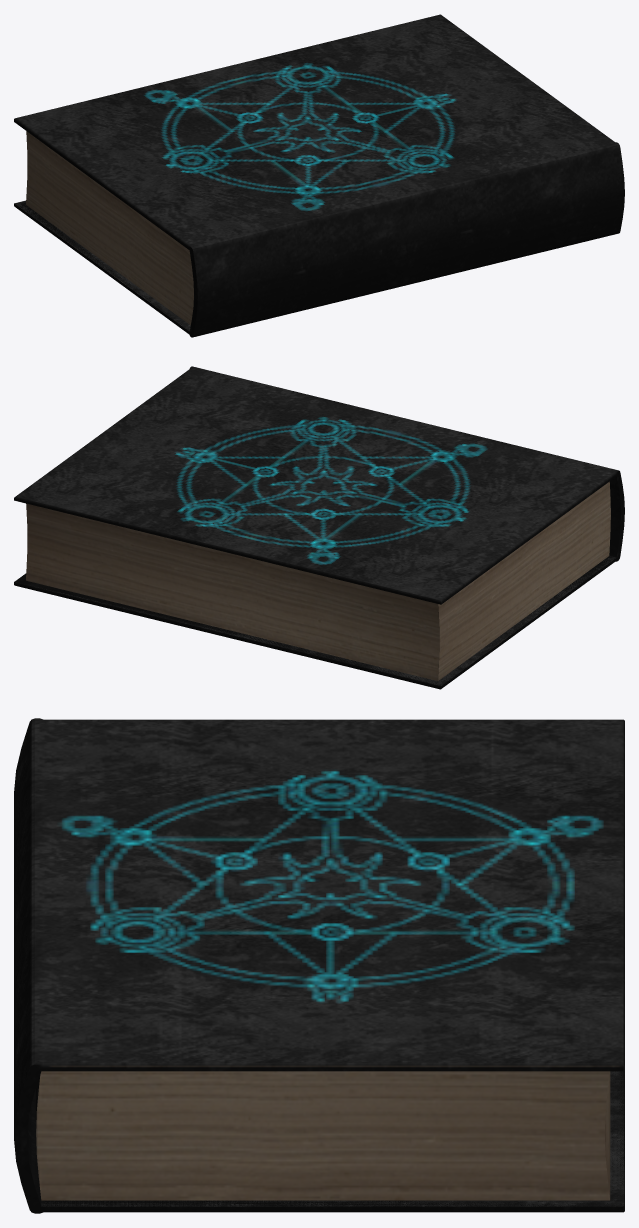
The model's file is spell_book (1).glb.
3 views of the same model, one above another, from view 1: azimuth 30°, elevation 25°; view 2: azimuth 150°, elevation 25°; view 3: azimuth 270°, elevation 25° (orthographic). The views are drawn at different scales.
Parts seen in each view (by area): view 1: Book; view 2: Book; view 3: Book.
Part boxes in pixels (x1,y1,x2,y2): Book: (14, 14, 624, 337); Book: (14, 366, 624, 689); Book: (14, 718, 624, 1213).
Size of the model in its own units: 1.96 by 0.3931 by 1.46.
1 material, 1 textured.
